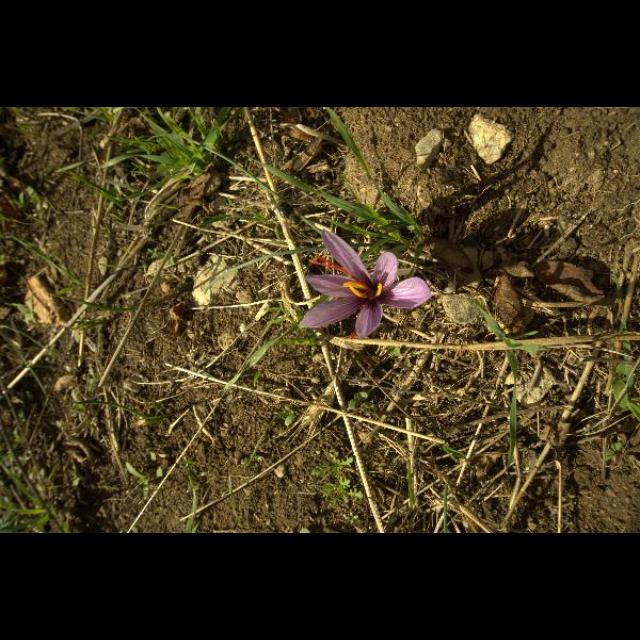flower: (298, 228, 432, 340)
